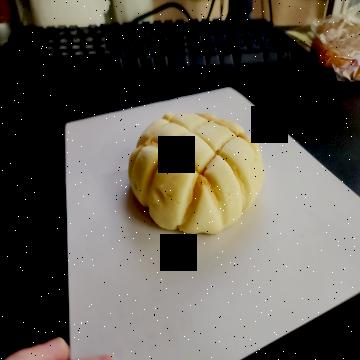melon_bread: (128, 110, 265, 236)
